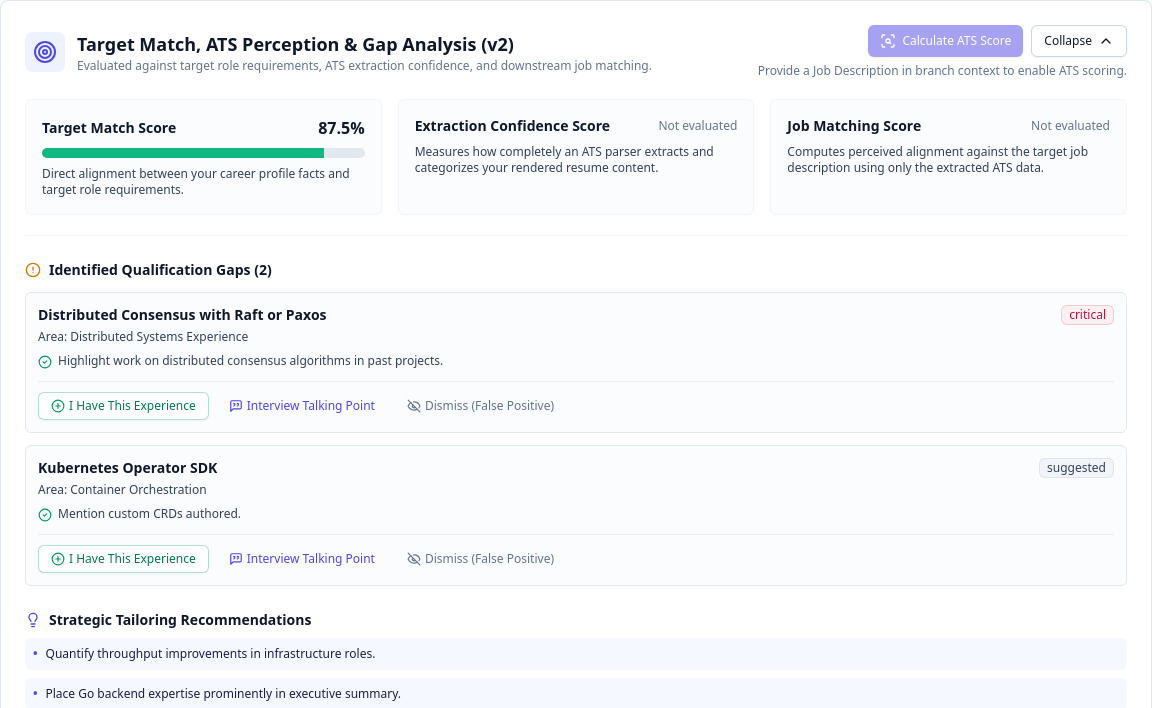
Scenario: GapAnalysisCard › reveals interview talking points when requested
The image size is (1152, 708).
Click the button "Interview Talking Point" below "Distributed Systems Experience".
click(302, 406)  # box [217,392,387,420]
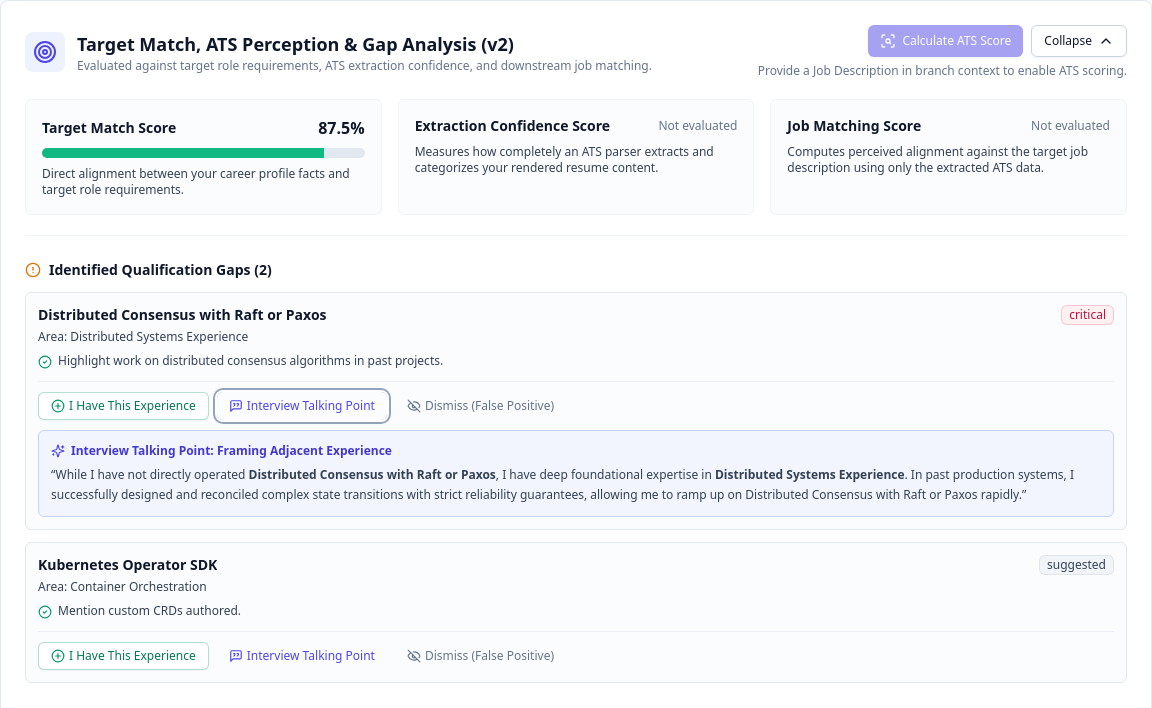
Expected: the text "Interview Talking Point: Framing Adjacent Experience" is shown, [71,443,392,459]
